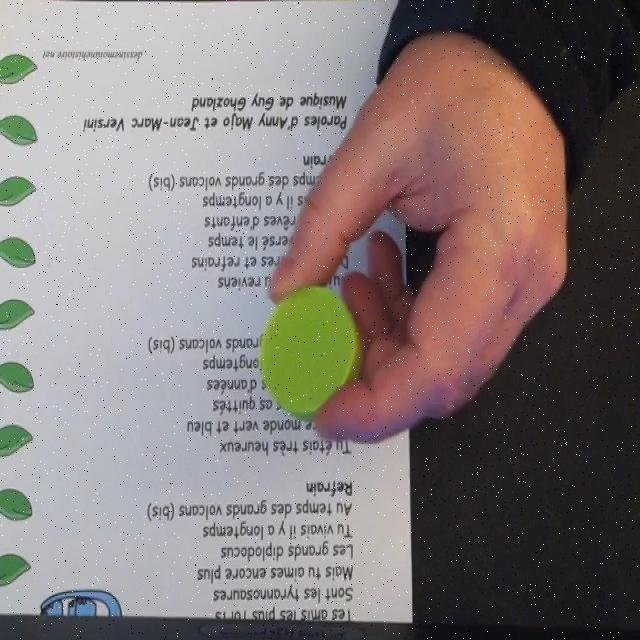round: (261, 284, 361, 421)
